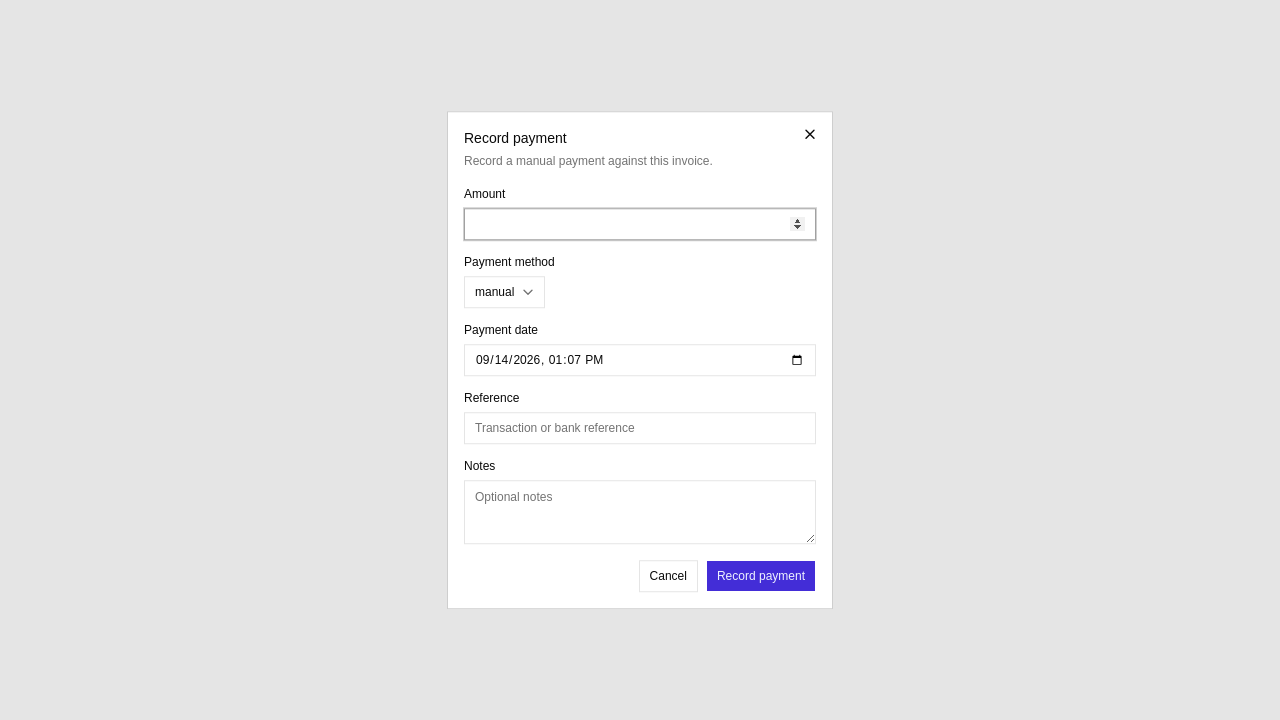
RecordPaymentDialog › rejects empty amount
The image size is (1280, 720).
Click the button "Record payment": (761, 576) top-left (706, 560), bottom-right (816, 592)
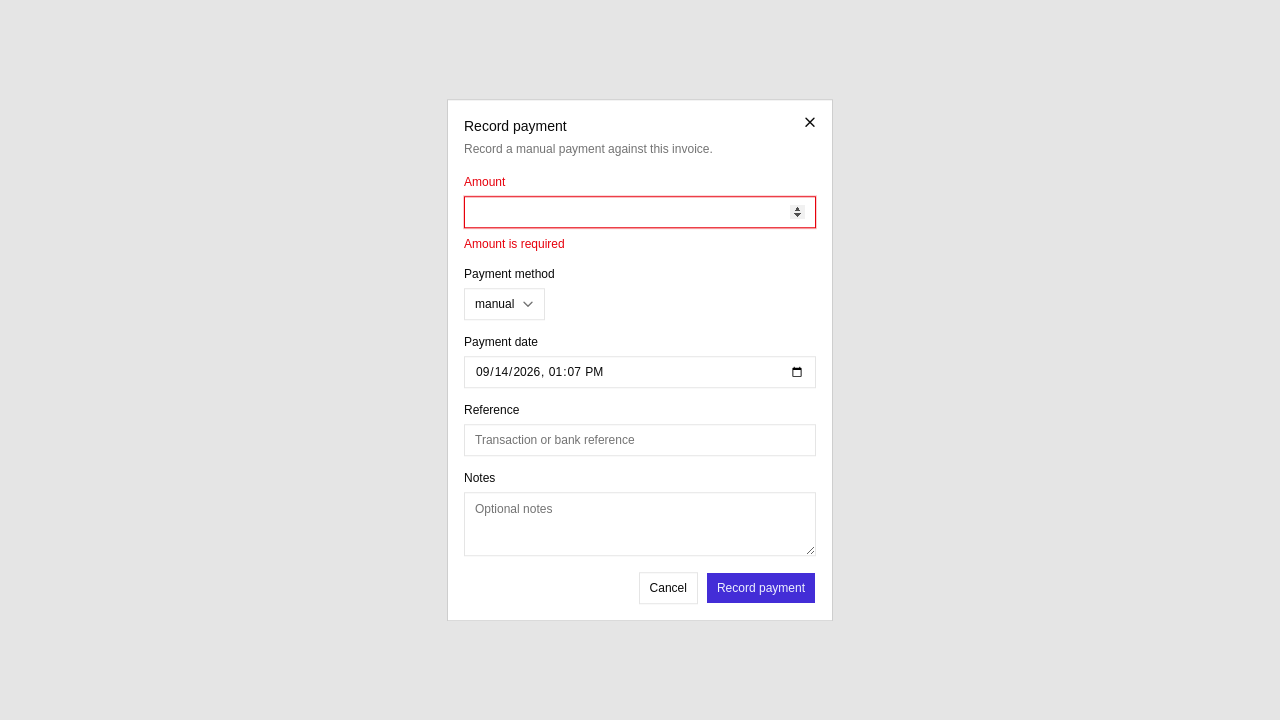
Result: the text "Amount is required" is shown at top-left (464, 237), bottom-right (565, 251)
